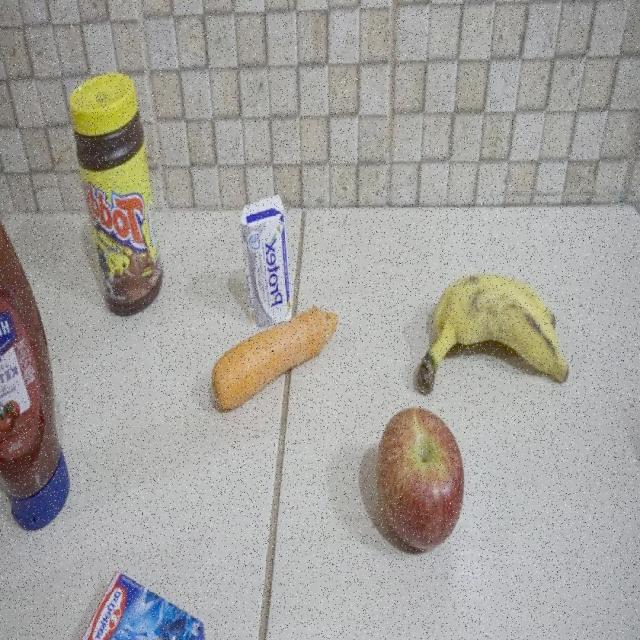Apple: (374, 404, 467, 552)
Banana: (415, 271, 568, 397)
Carrot: (209, 307, 340, 409)
ChocolatePowder: (68, 70, 164, 316)
Gelatine: (53, 565, 211, 640)
Ketchup: (0, 200, 64, 534)
Soap: (240, 191, 290, 301)
